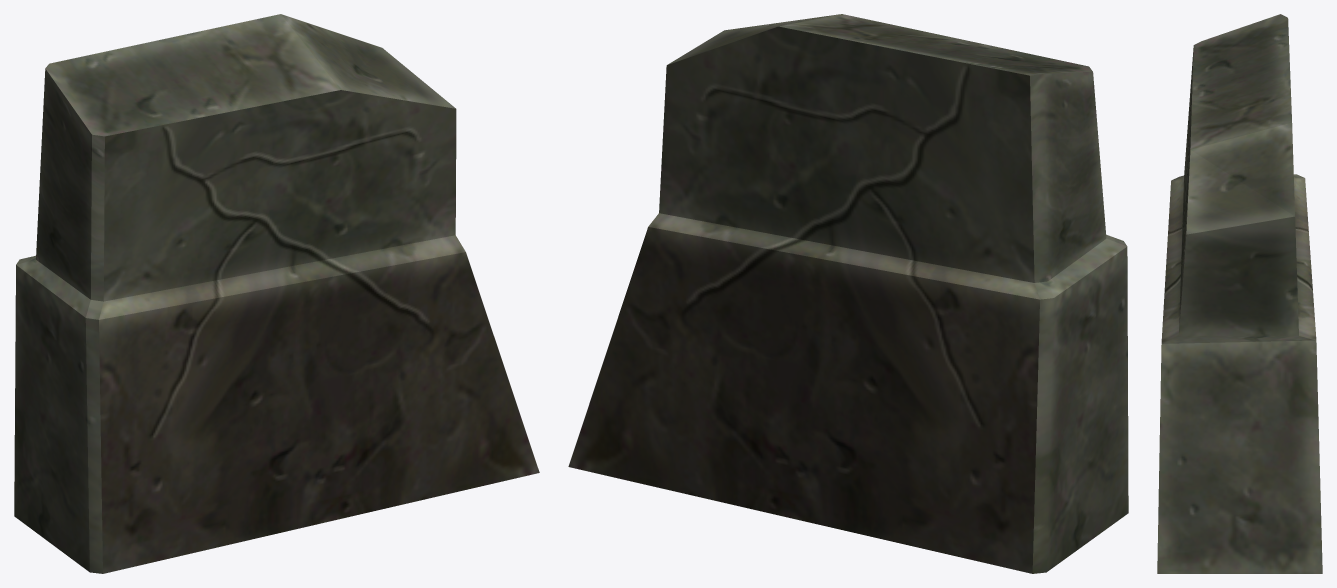
The model's file is WallBreak04.FBX.
3 views of the same model, side by side, from view 1: azimuth 30°, elevation 25°; view 2: azimuth 150°, elevation 25°; view 3: azimuth 270°, elevation 25° (orthographic). The views are drawn at different scales.
Parts seen in each view (by area): view 1: WallBreak04; view 2: WallBreak04; view 3: WallBreak04.
Boxes of the visible parts, x1,y1,x2,y2 form: WallBreak04: [14, 14, 539, 573]; WallBreak04: [568, 14, 1128, 573]; WallBreak04: [1157, 14, 1322, 573].
Bounding box in the file's own units: 33.65 × 33.09 × 12.88.
